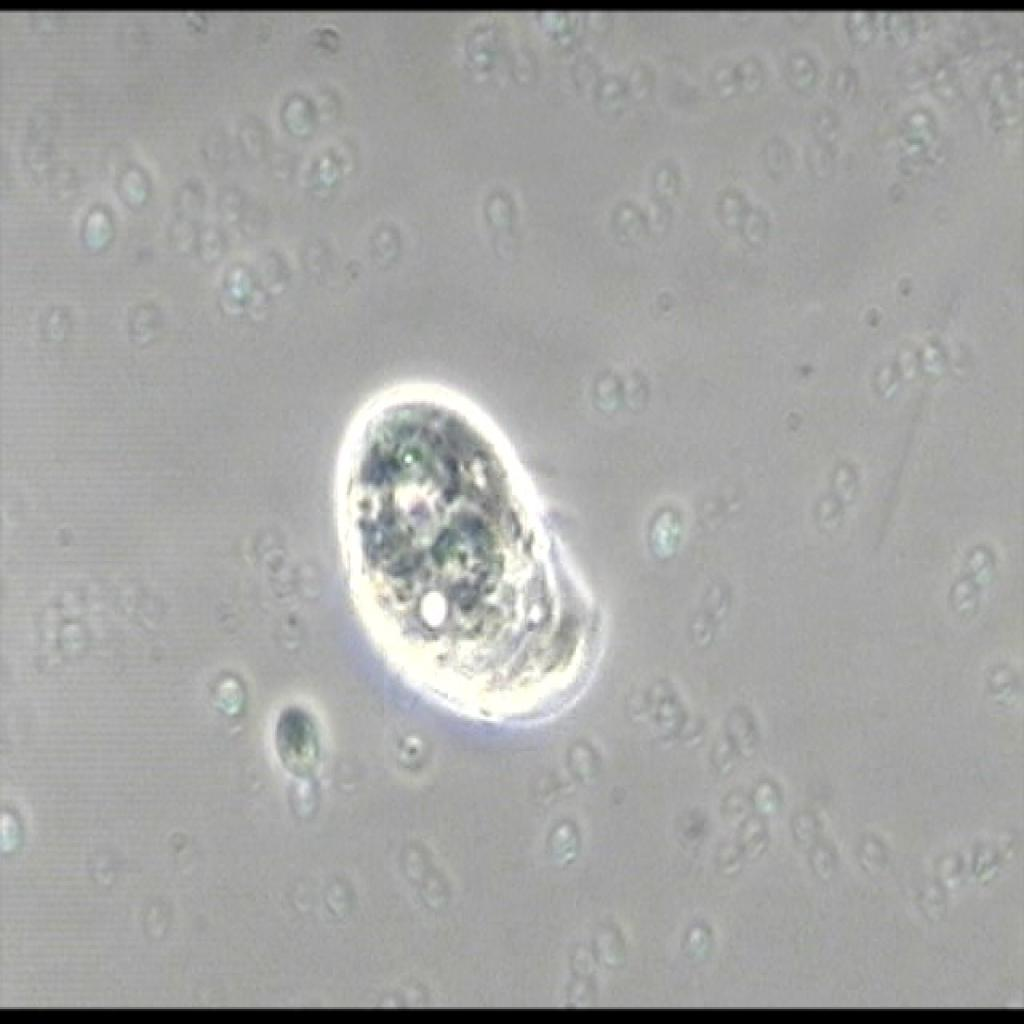Chilodonella: (326, 350, 636, 768)
